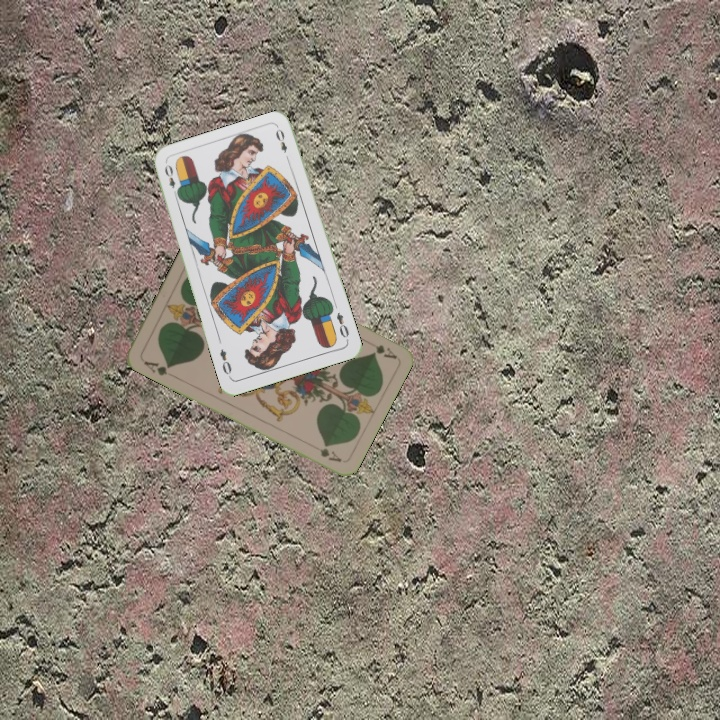EO: (161, 161, 182, 199), (332, 308, 352, 341)
GA: (140, 357, 174, 378), (371, 340, 399, 361)
